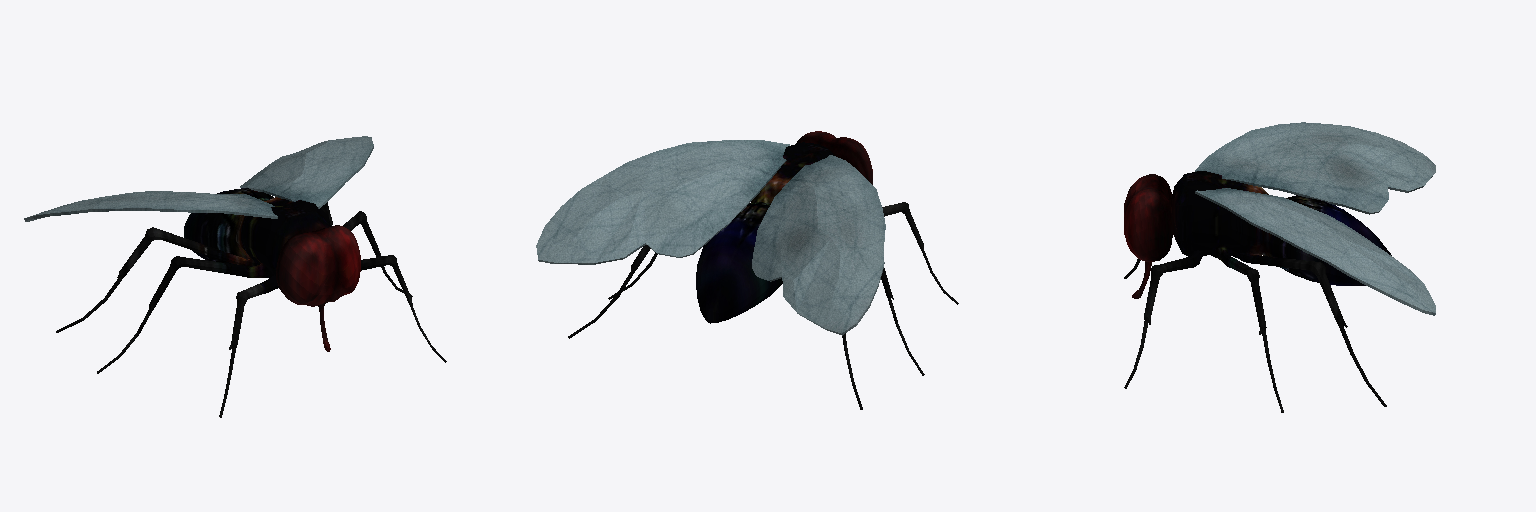
3 views of the same model, side by side, from view 1: azimuth 30°, elevation 25°; view 2: azimuth 150°, elevation 25°; view 3: azimuth 270°, elevation 25° (orthographic).
Parts seen in each view (by area): view 1: fly_body, fly_wing; view 2: fly_wing, fly_body; view 3: fly_wing, fly_body.
Part boxes in pixels (x1,y1,x2,y2): fly_body: (56, 188, 446, 417); fly_wing: (24, 136, 373, 221); fly_wing: (536, 140, 885, 335); fly_body: (568, 131, 958, 409); fly_wing: (1195, 122, 1435, 315); fly_body: (1124, 171, 1391, 412).
Size of the model in its own units: 61.77 by 29.41 by 51.55.
Materials: 2 (2 with a texture image).